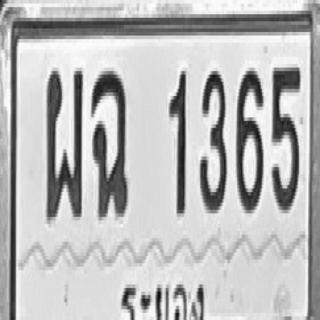A09: (91, 68, 128, 217)
A28: (45, 68, 84, 220)
N01: (168, 68, 186, 217)
N03: (199, 68, 227, 213)
N05: (271, 62, 300, 212)
N06: (236, 68, 263, 213)
P53: (120, 275, 210, 320)
